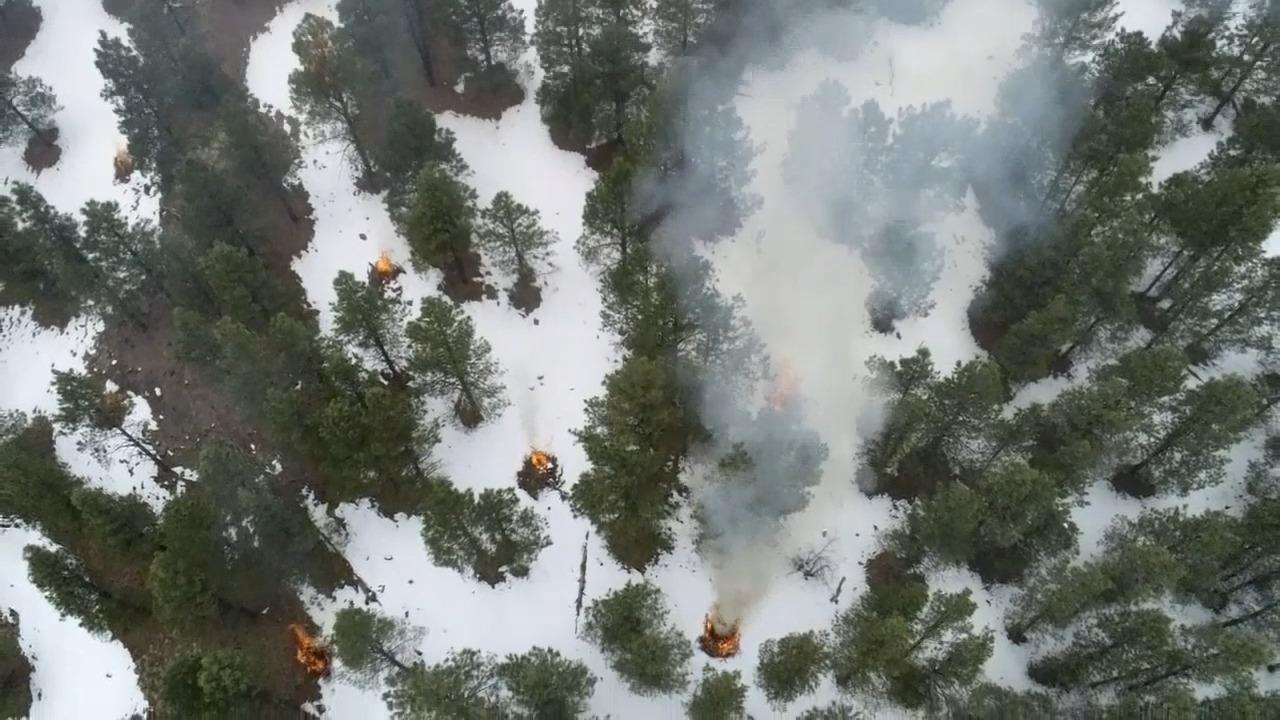fire: (283, 634, 323, 688), (700, 616, 743, 664), (524, 447, 555, 481), (369, 257, 398, 281)
smoke: (683, 0, 1099, 267), (645, 264, 1000, 507)
